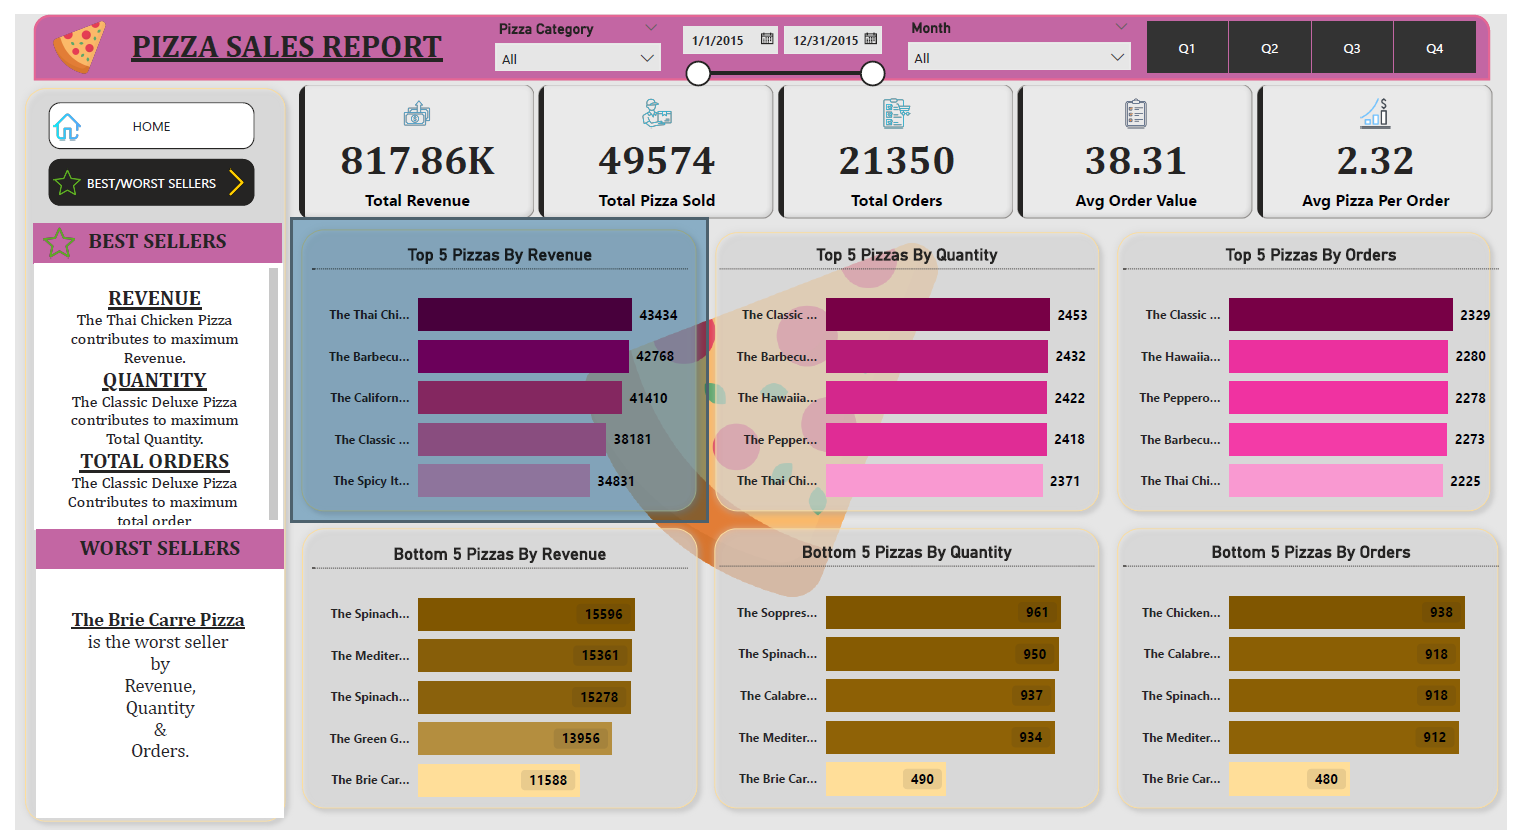

This screenshot's page, from the dashboard's own definition file:
{"tool":"powerbi","page":{"name":"BEST/WORST SELLERS","canvas":[1500,820],"ordinal":1},"visuals":[{"type":"shape","box":[0,64.6,280.3,755.7],"z":0},{"type":"cardVisual","fields":{"Data":["All_Measures.Total_Revenue","All_Measures.Total_Pizza_Sold","All_Measures.Total_Orders","All_Measures.Avg_Ord_Value","All_Measures.Avg_Pizza_Per_Order"]},"box":[280,65.7,1211.4,144.3],"z":1000},{"type":"shape","box":[17.9,0,1464.7,66],"z":2000},{"type":"textbox","box":[111.3,6.9,335.3,53.6],"z":3000},{"type":"image","box":[17.9,0,93.4,64.6],"z":4000},{"type":"textbox","box":[17.9,210.2,248.7,39.8],"z":5000},{"type":"textbox","box":[19.2,250.1,248.7,267.9],"z":6000},{"type":"textbox","box":[20.6,518,248.7,39.8],"z":7000},{"type":"textbox","box":[20.6,557.8,248.7,248.7],"z":8000},{"type":"slicer","fields":{"Values":["pizza_sales.pizza_category"]},"box":[472.7,1.4,185.5,61.8],"z":9000},{"type":"slicer","fields":{"Values":["Calendar.order_date"]},"box":[658.1,1.4,225.3,76.9],"z":10000},{"type":"slicer","fields":{"Values":["Calendar.Order_Quarter"]},"box":[1111.6,0,380.6,64.6],"z":11000},{"type":"slicer","fields":{"Values":["Calendar.Month"]},"box":[887.6,0,243.2,64.6],"z":12000},{"type":"shape","box":[280.3,508.4,414.9,298.2],"z":13000},{"type":"shape","box":[278.9,207.5,414.9,300.9],"z":14000},{"type":"shape","box":[693.9,508.4,405.3,298.2],"z":15000},{"type":"shape","box":[1099.2,508.4,401.2,298.2],"z":16000},{"type":"shape","box":[695.2,210.2,404,298.2],"z":17000},{"type":"shape","box":[1099.2,210.2,393,298.2],"z":18000},{"type":"clusteredBarChart","title":"Top 5 Pizzas By Revenue","fields":{"Category":["pizza_sales.pizza_name"],"Y":["All_Measures.Total_Revenue"]},"box":[298.2,230.8,377.9,276.2],"z":19000},{"type":"clusteredBarChart","title":"Top 5 Pizzas By Orders","fields":{"Category":["pizza_sales.pizza_name"],"Y":["All_Measures.Total_Orders"]},"box":[1114.3,230.8,377.9,276.2],"z":20000},{"type":"clusteredBarChart","title":"Top 5 Pizzas By Quantity","fields":{"Category":["pizza_sales.pizza_name"],"Y":["All_Measures.Total_Pizza_Sold"]},"box":[707.6,230.8,377.9,276.2],"z":21000},{"type":"clusteredBarChart","title":"Bottom 5 Pizzas By Quantity","fields":{"Category":["pizza_sales.pizza_name"],"Y":["All_Measures.Total_Pizza_Sold"]},"box":[707.6,530.4,377.9,276.2],"z":22000},{"type":"clusteredBarChart","title":"Bottom 5 Pizzas By Orders","fields":{"Category":["pizza_sales.pizza_name"],"Y":["All_Measures.Total_Orders"]},"box":[1114.3,530.4,377.9,276.2],"z":23000},{"type":"clusteredBarChart","title":"Bottom 5 Pizzas By Revenue","fields":{"Category":["pizza_sales.pizza_name"],"Y":["All_Measures.Total_Revenue"]},"box":[298.2,531.7,377.9,276.2],"z":24000},{"type":"pageNavigator","box":[33,87.9,207.5,105.8],"z":25000},{"type":"image","box":[33,87.9,37.1,49.5],"z":26000},{"type":"image","box":[33,141.5,37.1,52.2],"z":27000},{"type":"image","box":[20.6,208.8,44,41.2],"z":28000},{"type":"image","box":[203.4,141.5,37.1,52.2],"z":29000}]}

Visuals, with their boxes in screenshot pixels (x1, y1, x2, y2), scaled from the page's 1500x820 canvas onto the 1517x839 screenshot:
shape: left=0, top=66, right=283, bottom=838
cardVisual - All_Measures.Total_Revenue x All_Measures.Total_Pizza_Sold: left=283, top=67, right=1508, bottom=215
shape: left=18, top=0, right=1499, bottom=68
textbox: left=113, top=7, right=452, bottom=62
image: left=18, top=0, right=113, bottom=66
textbox: left=18, top=215, right=270, bottom=256
textbox: left=19, top=256, right=271, bottom=530
textbox: left=21, top=530, right=272, bottom=571
textbox: left=21, top=571, right=272, bottom=825
slicer - pizza_sales.pizza_category: left=478, top=1, right=666, bottom=65
slicer - Calendar.order_date: left=666, top=1, right=893, bottom=80
slicer - Calendar.Order_Quarter: left=1124, top=0, right=1509, bottom=66
slicer - Calendar.Month: left=898, top=0, right=1144, bottom=66
shape: left=283, top=520, right=703, bottom=825
shape: left=282, top=212, right=702, bottom=520
shape: left=702, top=520, right=1112, bottom=825
shape: left=1112, top=520, right=1516, bottom=825
shape: left=703, top=215, right=1112, bottom=520
shape: left=1112, top=215, right=1509, bottom=520
"Top 5 Pizzas By Revenue" clusteredBarChart: left=302, top=236, right=684, bottom=519
"Top 5 Pizzas By Orders" clusteredBarChart: left=1127, top=236, right=1509, bottom=519
"Top 5 Pizzas By Quantity" clusteredBarChart: left=716, top=236, right=1098, bottom=519
"Bottom 5 Pizzas By Quantity" clusteredBarChart: left=716, top=543, right=1098, bottom=825
"Bottom 5 Pizzas By Orders" clusteredBarChart: left=1127, top=543, right=1509, bottom=825
"Bottom 5 Pizzas By Revenue" clusteredBarChart: left=302, top=544, right=684, bottom=827
pageNavigator: left=33, top=90, right=243, bottom=198
image: left=33, top=90, right=71, bottom=141
image: left=33, top=145, right=71, bottom=198
image: left=21, top=214, right=65, bottom=256
image: left=206, top=145, right=243, bottom=198
